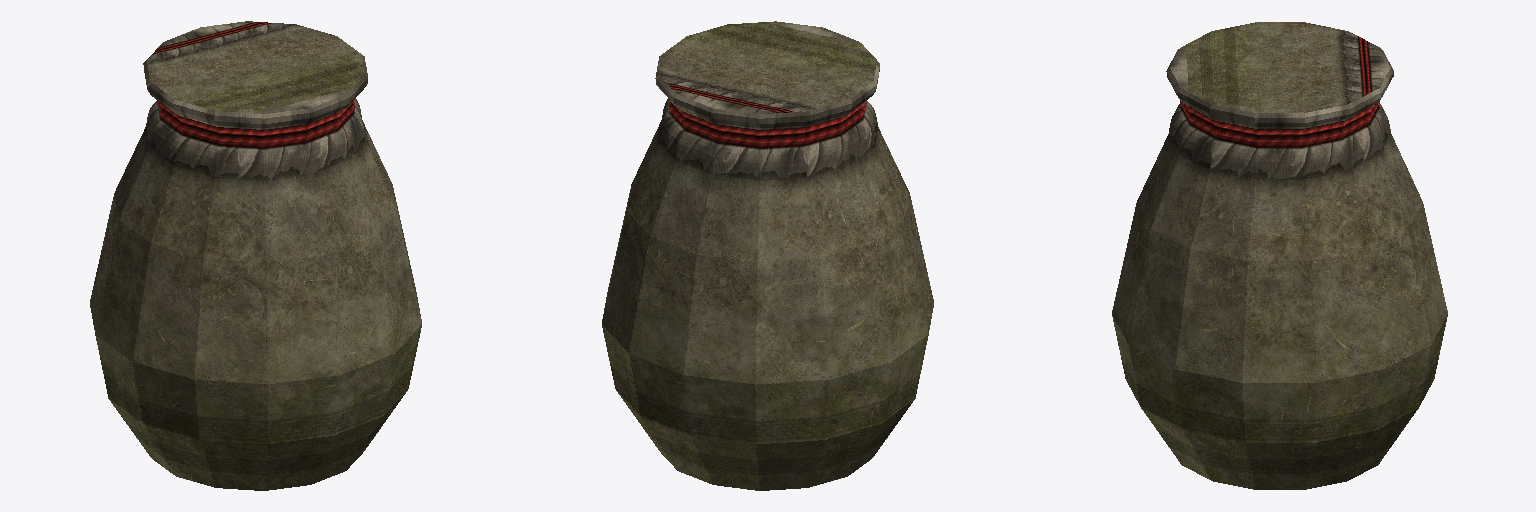
3 views of the same model, side by side, from view 1: azimuth 30°, elevation 25°; view 2: azimuth 150°, elevation 25°; view 3: azimuth 270°, elevation 25° (orthographic).
Visible parts, largest first — view 1: MeshFBXASC032Object_MeshFBXASC032ObjectShape; view 2: MeshFBXASC032Object_MeshFBXASC032ObjectShape; view 3: MeshFBXASC032Object_MeshFBXASC032ObjectShape.
Part boxes in pixels (x1,y1,x2,y2): MeshFBXASC032Object_MeshFBXASC032ObjectShape: (90,21,421,490); MeshFBXASC032Object_MeshFBXASC032ObjectShape: (602,21,933,490); MeshFBXASC032Object_MeshFBXASC032ObjectShape: (1112,22,1447,489).
Size of the model in its own units: 1.42 by 1.81 by 1.46.
1 materials, 1 textured.